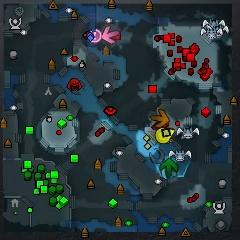Other: (88, 28, 102, 43)
p4: (156, 128, 175, 143)
x1: (102, 26, 119, 44)
x3: (161, 167, 168, 179)
x4: (160, 158, 179, 177)
x5: (151, 109, 169, 127)
